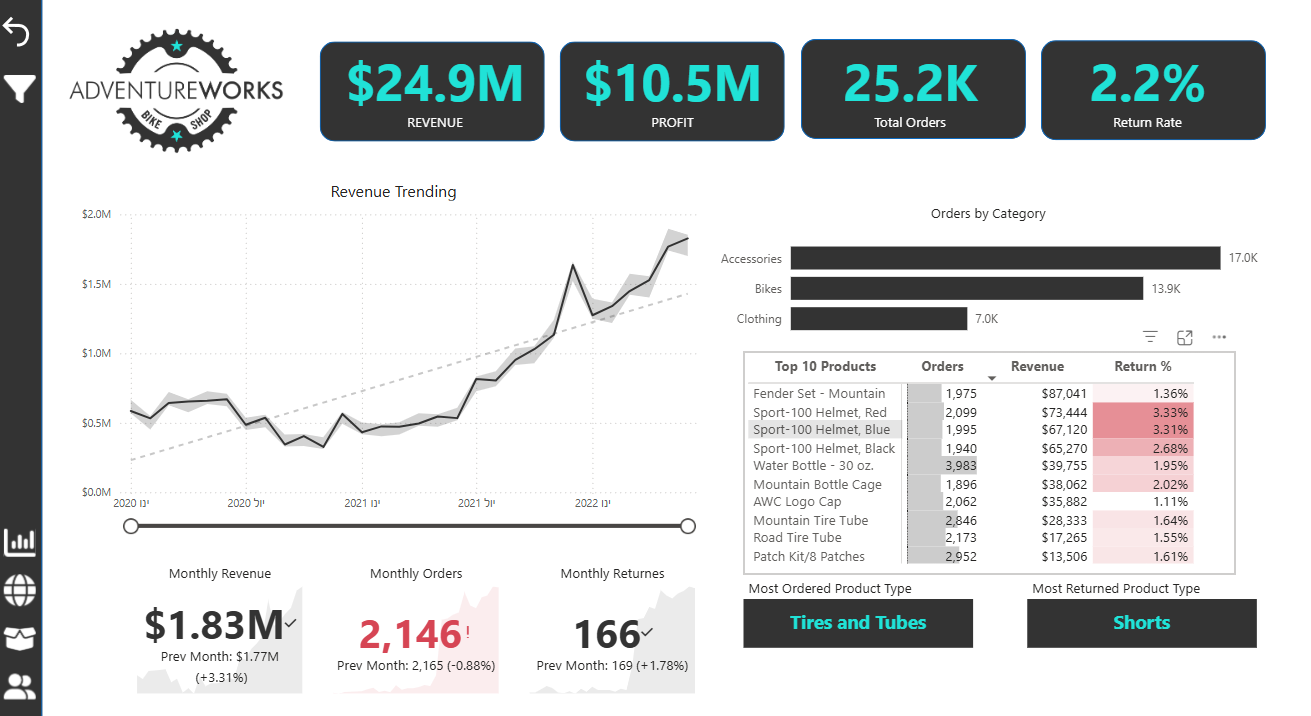

Layout of this report page (visuals, bound fields, positions):
{"tool":"powerbi","page":{"name":"Exec Dashboard","canvas":[1280,720],"ordinal":0},"visuals":[{"type":"card","fields":{"Values":["Measure Table.Total Revenue"]},"box":[311.2,15,256.2,150],"z":0,"group":"g2"},{"type":"image","title":"AW Logo","box":[50,24.4,261.2,133.8],"z":0},{"type":"group","id":"g1","title":"KPI Backgrounds","box":[324,39.9,946.7,102.7],"z":0,"group":"g3"},{"type":"shape","box":[324,42.6,225,100],"z":0,"group":"g1"},{"type":"actionButton","box":[3.8,523.8,46.2,40],"z":0,"group":"g4"},{"type":"shape","title":"Left Nav Background","box":[0,0,46.2,720],"z":1000},{"type":"group","id":"g2","title":"KPI Values","box":[311.2,15,968.8,150],"z":1000,"group":"g3"},{"type":"card","fields":{"Values":["Measure Table.Total Profit"]},"box":[548.7,15,256.2,150],"z":1000,"group":"g2"},{"type":"shape","box":[564.6,42.6,225,100],"z":1000,"group":"g1"},{"type":"actionButton","box":[3.8,619.6,46.2,40],"z":1000,"group":"g4"},{"type":"group","id":"g3","title":"KPI's","box":[311.2,15,968.8,150],"z":2000},{"type":"card","fields":{"Values":["Measure Table.Total Orders"]},"box":[786.2,15,256.2,150],"z":2000,"group":"g2"},{"type":"shape","box":[1045.7,40.5,225,100],"z":2000,"group":"g1"},{"type":"actionButton","box":[3.8,667.6,46.2,40],"z":2000,"group":"g4"},{"type":"card","fields":{"Values":["Measure Table.Return Rate"]},"box":[1023.7,15,256.2,150],"z":3000,"group":"g2"},{"type":"shape","box":[805.2,39.9,225,100],"z":3000,"group":"g1"},{"type":"lineChart","title":"Revenue Trending","fields":{"Y":["Measure Table.Total Revenue"],"Category":["Calendar Lookup.Start of Month"]},"box":[80,180,635,357.5],"z":3000},{"type":"actionButton","box":[3.8,571.7,46.2,40],"z":3000,"group":"g4"},{"type":"kpi","title":"Monthly Revenue","fields":{"TrendLine":["Calendar Lookup.Start of Month"],"Goal":["Measure Table.Previous Month Revenue"],"Indicator":["Measure Table.Total Revenue"]},"box":[136.2,564.4,175.5,135],"z":4000},{"type":"kpi","title":"Monthly Orders","fields":{"TrendLine":["Calendar Lookup.Start of Month"],"Indicator":["Measure Table.Total Orders"],"Goal":["Measure Table.Previous Month Orders"]},"box":[332.5,564.4,175.5,135],"z":5000},{"type":"kpi","title":"Monthly Returnes","fields":{"TrendLine":["Calendar Lookup.Start of Month"],"Indicator":["Measure Table.Total Returnes"],"Goal":["Measure Table.Previous Month Returns"]},"box":[528.8,564.4,175.5,135],"z":6000},{"type":"clusteredBarChart","title":" Orders by Category","fields":{"Y":["Measure Table.Total Orders"],"Category":["Product Categories Lookup.CategoryName"]},"box":[715.3,204.9,554.6,144.8],"z":7000},{"type":"pivotTable","fields":{"Rows":["Product Lookup.ProductName"],"Values":["Measure Table.Total Orders","Measure Table.Total Revenue","Measure Table.Return Rate"]},"box":[747.2,352.1,492,223.3],"z":8000},{"type":"card","fields":{"Values":["Min(Product Subcategories Lookup.SubcategoryName)"]},"box":[747.2,600,229.4,49.1],"z":9000},{"type":"textbox","box":[747.2,575.5,198.8,33.1],"z":10000},{"type":"card","fields":{"Values":["Min(Product Subcategories Lookup.SubcategoryName)"]},"box":[1030.7,600,229.4,49.1],"z":11000},{"type":"textbox","box":[1030.7,575.5,198.8,33.1],"z":12000},{"type":"actionButton","box":[0,12.5,46.2,40],"z":13000},{"type":"group","id":"g4","title":"Navigation Buttons","box":[3.8,523.8,46.2,183.8],"z":14000},{"type":"actionButton","box":[3.8,70,42.5,40],"z":15000}]}

Visuals, with their boxes on the page's 1280x720 design canvas (x1, y1, x2, y2). These are canvas units, not pixel positions in the 1311x716 screenshot, which may show the page scaled, cropped or inside an application window:
card - Measure Table.Total Revenue: bbox=(311, 15, 567, 165)
"AW Logo" image: bbox=(50, 24, 311, 158)
"KPI Backgrounds" group: bbox=(324, 40, 1271, 143)
shape: bbox=(324, 43, 549, 143)
actionButton: bbox=(4, 524, 50, 564)
"Left Nav Background" shape: bbox=(0, 0, 46, 720)
"KPI Values" group: bbox=(311, 15, 1280, 165)
card - Measure Table.Total Profit: bbox=(549, 15, 805, 165)
shape: bbox=(565, 43, 790, 143)
actionButton: bbox=(4, 620, 50, 660)
"KPI's" group: bbox=(311, 15, 1280, 165)
card - Measure Table.Total Orders: bbox=(786, 15, 1042, 165)
shape: bbox=(1046, 40, 1271, 140)
actionButton: bbox=(4, 668, 50, 708)
card - Measure Table.Return Rate: bbox=(1024, 15, 1280, 165)
shape: bbox=(805, 40, 1030, 140)
"Revenue Trending" lineChart: bbox=(80, 180, 715, 538)
actionButton: bbox=(4, 572, 50, 612)
"Monthly Revenue" kpi: bbox=(136, 564, 312, 699)
"Monthly Orders" kpi: bbox=(332, 564, 508, 699)
"Monthly Returnes" kpi: bbox=(529, 564, 704, 699)
" Orders by Category" clusteredBarChart: bbox=(715, 205, 1270, 350)
pivotTable - Product Lookup.ProductName x Measure Table.Total Orders: bbox=(747, 352, 1239, 575)
card - Min(Product Subcategories Lookup.SubcategoryName): bbox=(747, 600, 977, 649)
textbox: bbox=(747, 576, 946, 609)
card - Min(Product Subcategories Lookup.SubcategoryName): bbox=(1031, 600, 1260, 649)
textbox: bbox=(1031, 576, 1230, 609)
actionButton: bbox=(0, 12, 46, 52)
"Navigation Buttons" group: bbox=(4, 524, 50, 708)
actionButton: bbox=(4, 70, 46, 110)
